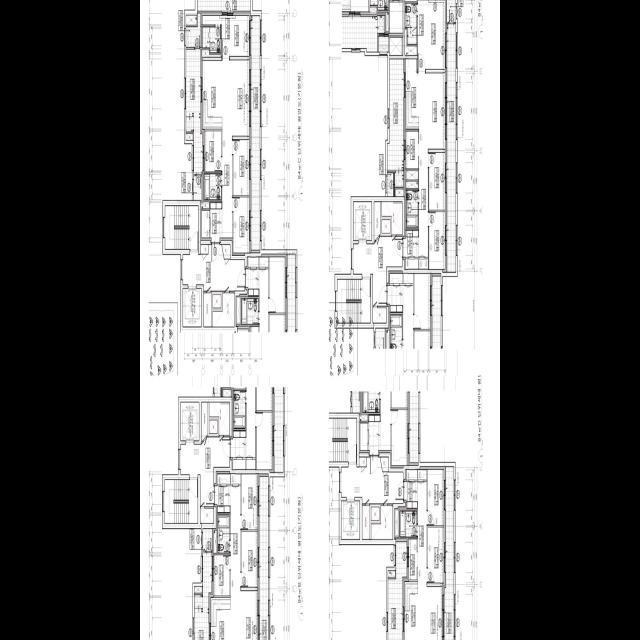background: (140, 0, 500, 640)
space_balconi: (447, 23, 456, 271), (251, 15, 260, 250), (186, 49, 202, 174), (388, 541, 407, 640), (387, 59, 403, 170), (445, 466, 454, 640), (194, 552, 211, 640), (260, 476, 268, 640), (198, 0, 250, 10)
space_bedroom: (203, 15, 249, 56), (418, 0, 445, 69), (429, 152, 445, 209), (429, 211, 445, 268), (428, 469, 444, 525), (242, 473, 258, 529), (233, 139, 249, 195), (428, 527, 444, 582), (233, 197, 249, 252), (242, 531, 257, 587), (214, 554, 230, 595), (205, 130, 221, 171)
space_elevator: (353, 201, 372, 240), (341, 501, 360, 539), (183, 288, 201, 326), (181, 402, 199, 440)
space_elevator_hall: (181, 436, 230, 506), (353, 236, 402, 306), (183, 244, 245, 290), (341, 457, 403, 503)
space_front: (215, 474, 230, 512), (210, 202, 222, 242), (403, 229, 419, 256), (404, 481, 417, 508)
space_kitchen: (203, 60, 222, 128), (406, 58, 419, 128), (211, 597, 231, 640), (405, 581, 418, 640)
space_living_room: (222, 59, 249, 237), (419, 73, 445, 256), (231, 473, 257, 640), (418, 481, 442, 640)
space_other: (371, 505, 393, 539), (213, 293, 234, 326), (382, 201, 402, 234), (209, 402, 229, 434), (406, 131, 418, 168), (409, 539, 417, 579), (405, 29, 417, 54), (362, 505, 370, 539), (374, 201, 380, 241), (202, 402, 208, 441), (204, 293, 211, 326), (203, 528, 212, 550), (200, 508, 214, 522), (373, 307, 386, 322), (202, 210, 209, 237), (447, 0, 456, 21), (194, 175, 201, 200), (395, 170, 403, 187), (202, 49, 221, 56), (209, 420, 218, 433), (380, 457, 388, 471), (222, 244, 230, 258), (406, 170, 418, 179), (406, 259, 418, 268), (371, 507, 379, 520), (382, 219, 390, 232), (213, 294, 221, 307), (395, 510, 399, 535), (407, 469, 417, 479), (186, 15, 197, 24), (406, 181, 418, 188), (419, 259, 428, 268), (418, 470, 427, 479), (359, 457, 367, 466), (214, 530, 217, 552), (201, 244, 208, 253), (396, 189, 404, 196), (202, 201, 209, 208), (388, 570, 395, 576), (195, 586, 202, 592), (186, 133, 193, 139)
space_outdoor_room: (186, 13, 200, 46), (387, 173, 393, 196)
space_staircase: (165, 479, 198, 523), (337, 278, 370, 322), (165, 205, 198, 249), (324, 418, 357, 461)
space_toilet: (405, 3, 417, 43), (218, 514, 230, 552), (203, 27, 221, 52), (406, 190, 418, 227), (204, 173, 221, 199), (400, 511, 417, 536)
